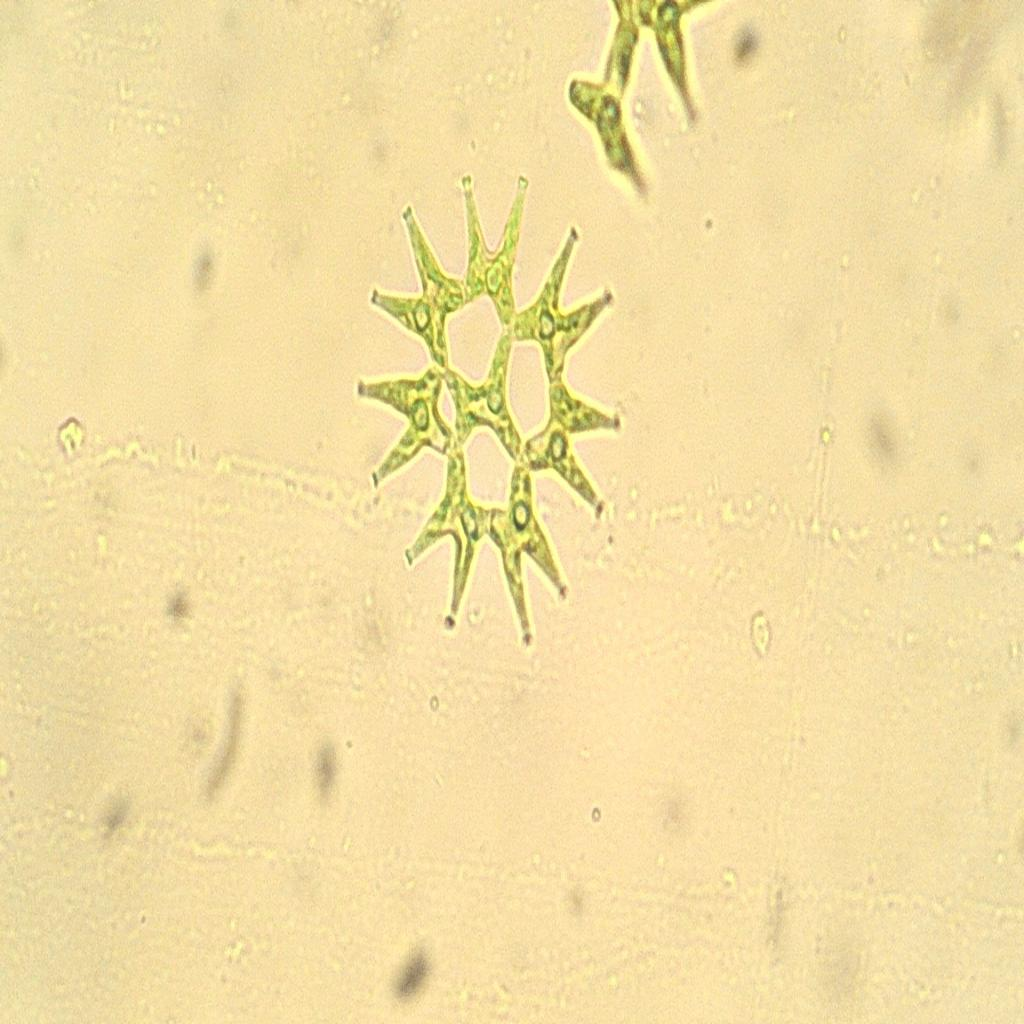Pediastrum_CTH: (350, 148, 627, 672)
